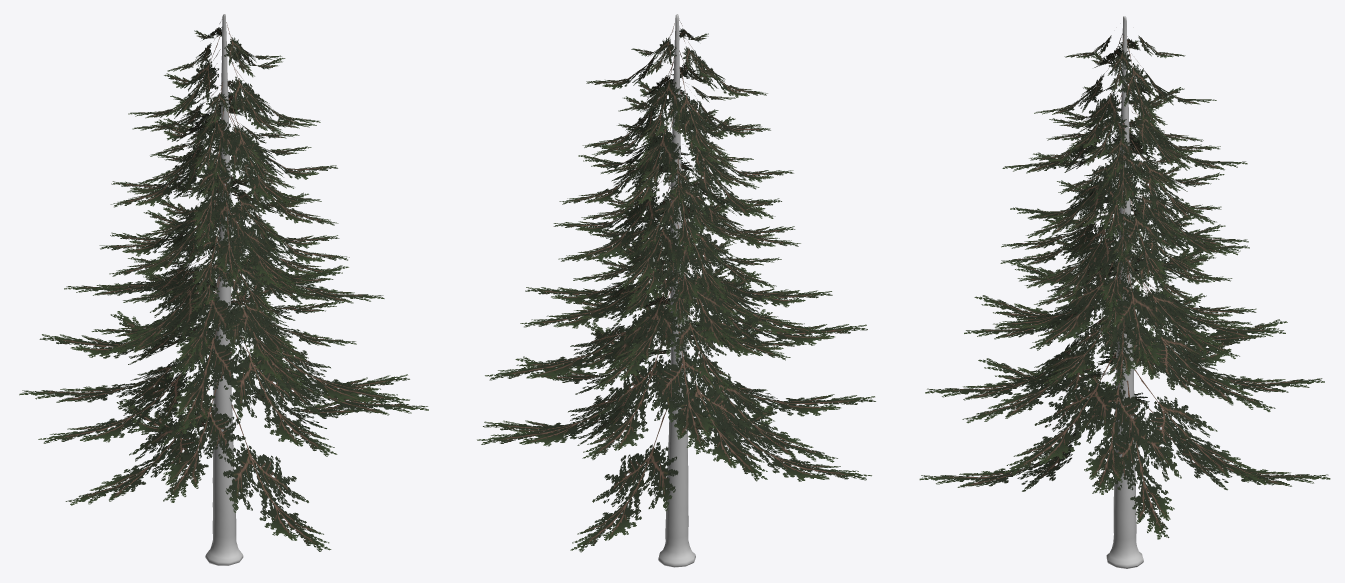
The model's file is PineTree.fbx.
3 renders of one model, left to right at view 1: azimuth 30°, elevation 25°; view 2: azimuth 150°, elevation 25°; view 3: azimuth 270°, elevation 25°, orthographic.
Parts seen in each view (by area): view 1: Tree; view 2: Tree; view 3: Tree.
Boxes of the visible parts, left/top/right/bottom form: Tree: left=19, top=14, right=428, bottom=565; Tree: left=477, top=14, right=875, bottom=567; Tree: left=919, top=16, right=1330, bottom=568.
Bounding box in the file's own units: 3.03 × 4.29 × 2.93.
